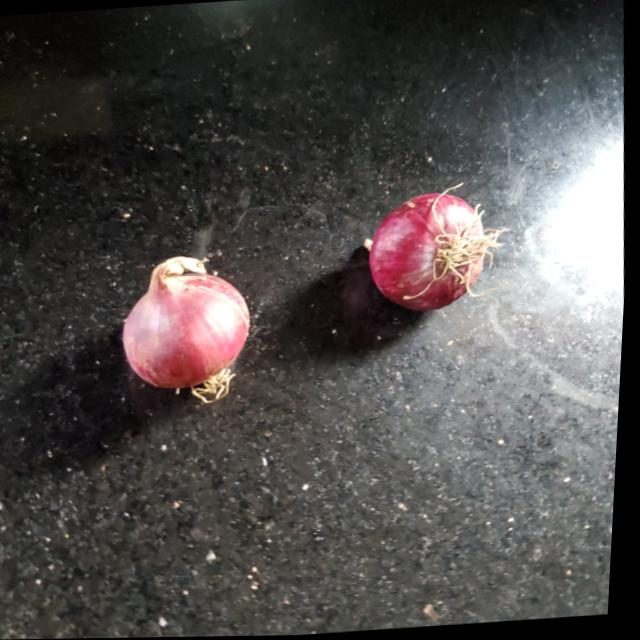onion: (118, 257, 259, 394), (367, 189, 489, 313)
